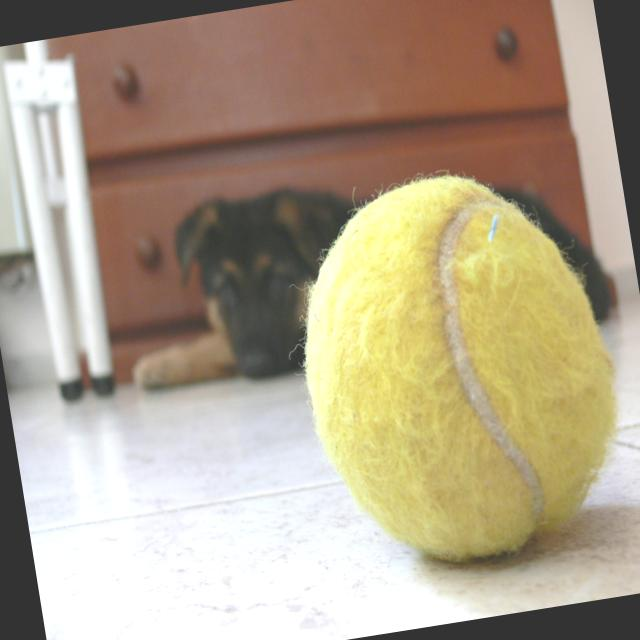Tennis ball: (264, 141, 640, 580)
